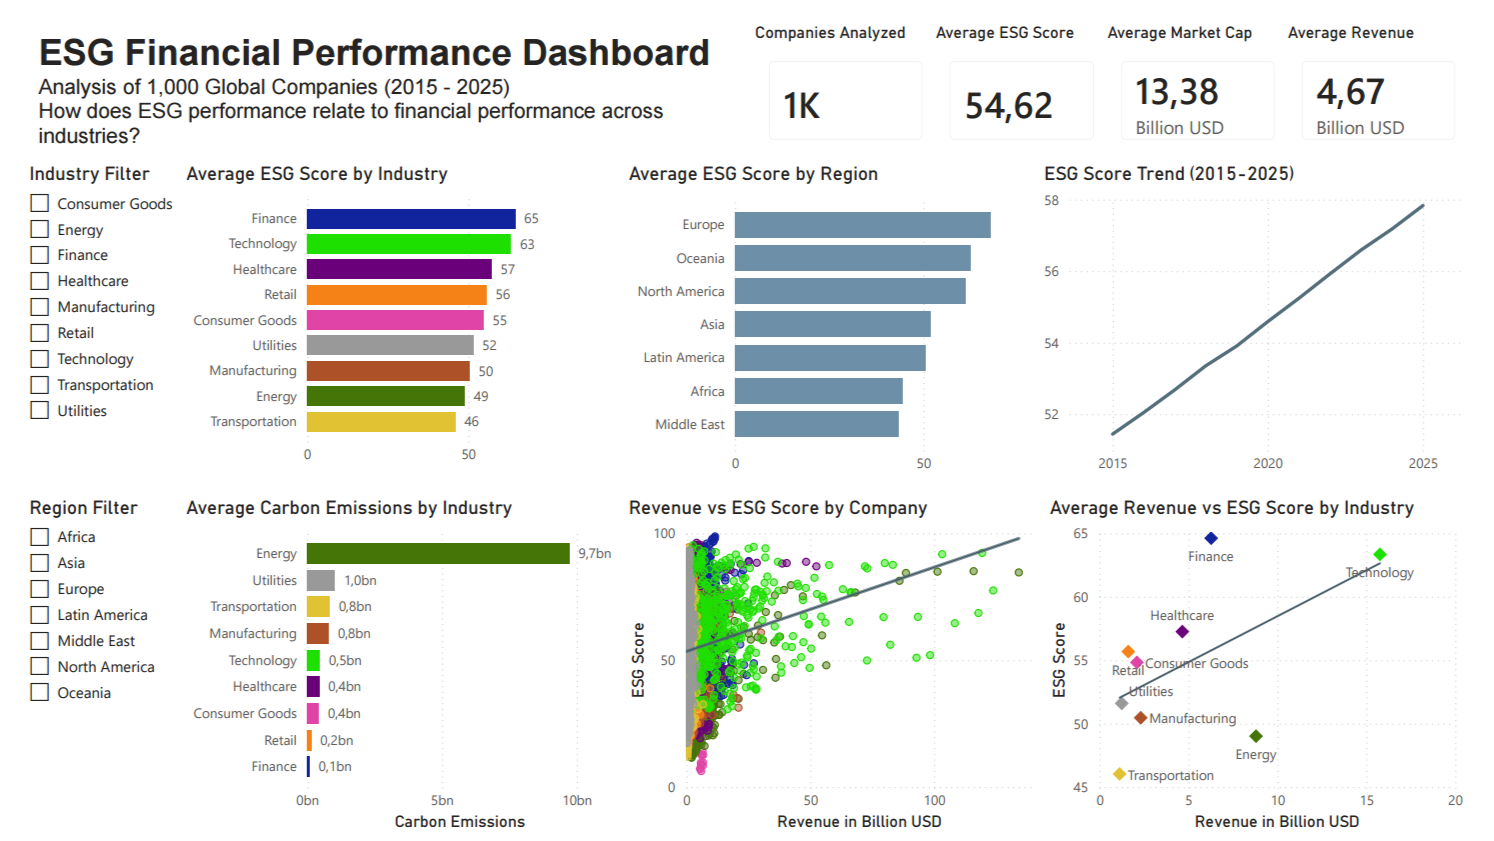

This screenshot's page, from the dashboard's own definition file:
{"tool":"powerbi","page":{"name":"Executuive ESG Overview","canvas":[1280,720],"ordinal":0},"visuals":[{"type":"cardVisual","title":"Average Market Cap","fields":{"Data":["public company_esg.Average Market Cap (B USD)"]},"box":[960,0,160,120],"z":0},{"type":"clusteredBarChart","title":"Average ESG Score by Industry","fields":{"Category":["public company_esg.industry"],"Y":["Avg(public company_esg.esg_overall)"]},"box":[144,128,392,272],"z":1000},{"type":"clusteredBarChart","title":"Average ESG Score by Region","fields":{"Y":["Avg(public company_esg.esg_overall)"],"Category":["public company_esg.region"]},"box":[536,128,368,280],"z":2000},{"type":"clusteredBarChart","title":"Average Carbon Emissions by Industry","fields":{"Y":["Sum(public company_esg.carbon_emissions)"],"Category":["public company_esg.industry"]},"box":[144,424,392,296],"z":3000},{"type":"lineChart","title":"ESG Score Trend (2015-2025)","fields":{"Category":["public company_esg.year"],"Y":["Avg(public company_esg.esg_overall)"]},"box":[904,128,376,280],"z":4000},{"type":"listSlicer","title":"Industry Filter","fields":{"Values":["public company_esg.industry"]},"box":[0,128,144,272],"z":5000},{"type":"listSlicer","title":"Region Filter","fields":{"Values":["public company_esg.region"]},"box":[0,424,144,256],"z":6000},{"type":"scatterChart","title":"Revenue vs ESG Score by Company","fields":{"X":["public company_esg.Average Revenue (B USD)"],"Y":["public company_esg.esg_overall"],"Series":["public company_esg.industry"]},"box":[536,424,368,296],"z":7000},{"type":"textbox","box":[8,8,624,120],"z":8000},{"type":"cardVisual","title":"Average ESG Score","fields":{"Data":["Avg(public company_esg.esg_overall)"]},"box":[808,0,152,120],"z":9000},{"type":"cardVisual","title":"Average Revenue","fields":{"Data":["public company_esg.Average Revenue (B USD)"]},"box":[1120,0,160,120],"z":10000},{"type":"cardVisual","title":"Companies Analyzed","fields":{"Data":["Count(public company_esg.company_name)"]},"box":[648,0,160,120],"z":11000},{"type":"scatterChart","title":"Average Revenue vs ESG Score by Industry","fields":{"Y":["public company_esg.esg_overall"],"Category":["public company_esg.industry"],"X":["public company_esg.Average Revenue (B USD)"]},"box":[904,424,376,296],"z":12000}]}

Visuals, with their boxes in screenshot pixels (x1, y1, x2, y2), scaled from the page's 1280x720 canvas onto the 1494x841 screenshot:
"Average Market Cap" cardVisual: <box>1120,0,1307,140</box>
"Average ESG Score by Industry" clusteredBarChart: <box>168,150,626,467</box>
"Average ESG Score by Region" clusteredBarChart: <box>626,150,1055,477</box>
"Average Carbon Emissions by Industry" clusteredBarChart: <box>168,495,626,840</box>
"ESG Score Trend (2015-2025)" lineChart: <box>1055,150,1493,477</box>
"Industry Filter" listSlicer: <box>0,150,168,467</box>
"Region Filter" listSlicer: <box>0,495,168,794</box>
"Revenue vs ESG Score by Company" scatterChart: <box>626,495,1055,840</box>
textbox: <box>9,9,738,150</box>
"Average ESG Score" cardVisual: <box>943,0,1120,140</box>
"Average Revenue" cardVisual: <box>1307,0,1493,140</box>
"Companies Analyzed" cardVisual: <box>756,0,943,140</box>
"Average Revenue vs ESG Score by Industry" scatterChart: <box>1055,495,1493,840</box>
